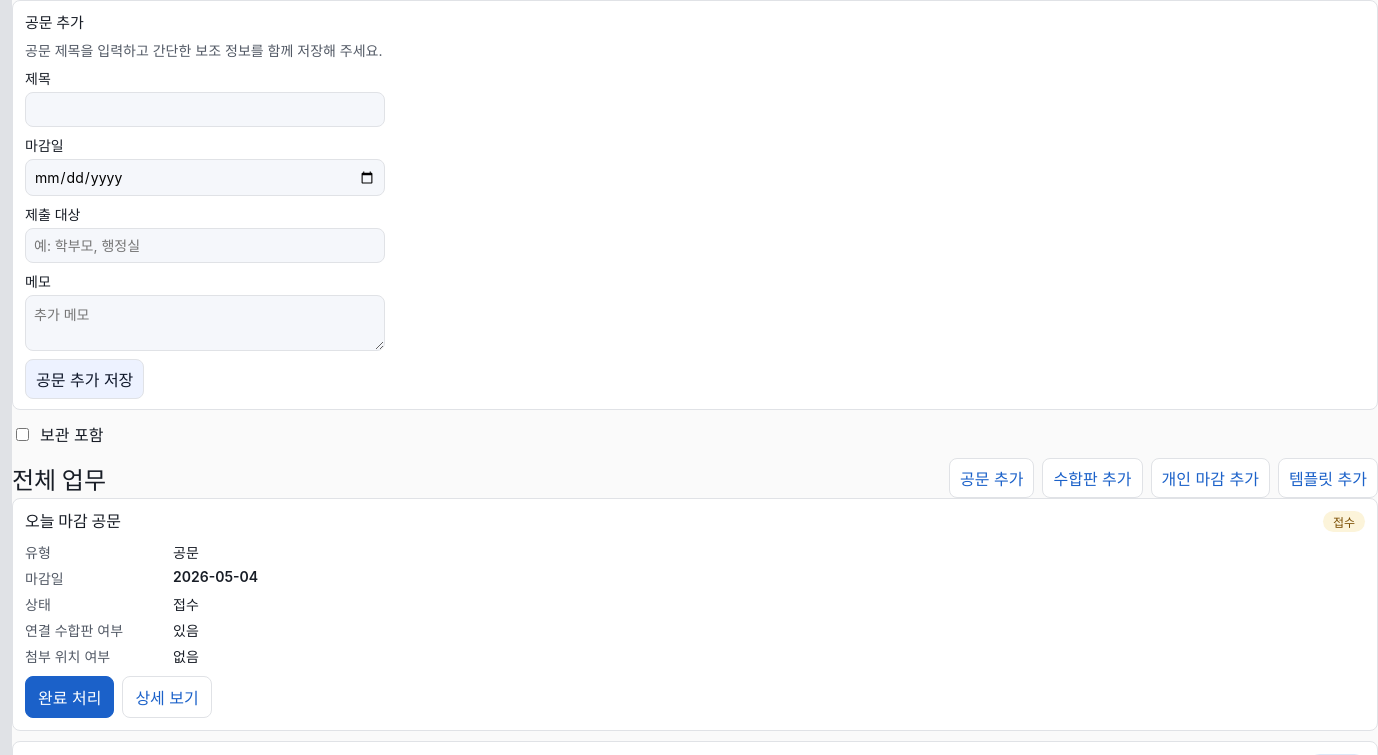
Scenario: TaskListPage create intent form › creates official document and appends it to the visible list from fallback data
The width and height of the screenshot is (1378, 755).
Type "5월 공문 제출 확인" into the field labelled "제목" at (205,110), box [25, 92, 385, 127]
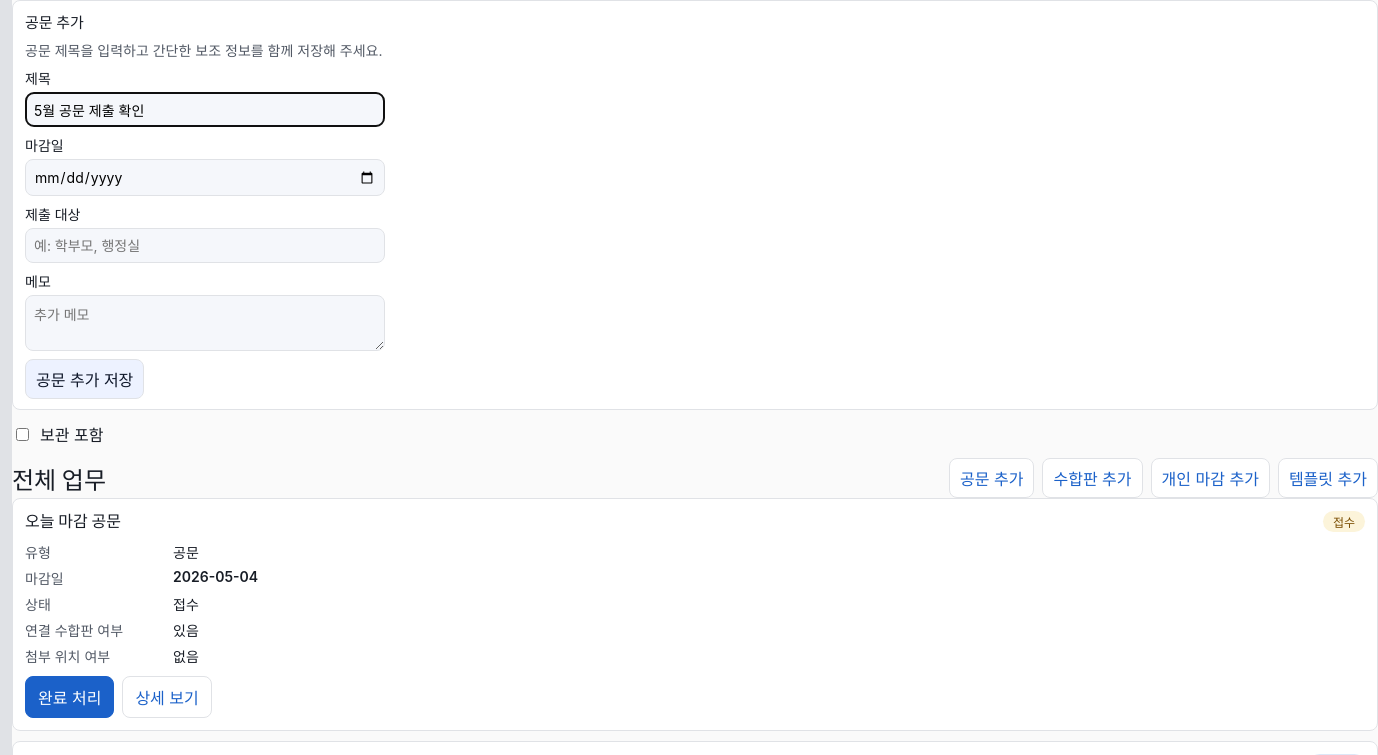
Type "2026-05-15" into the date field labelled "마감일" at (205,178), box [25, 159, 385, 196]
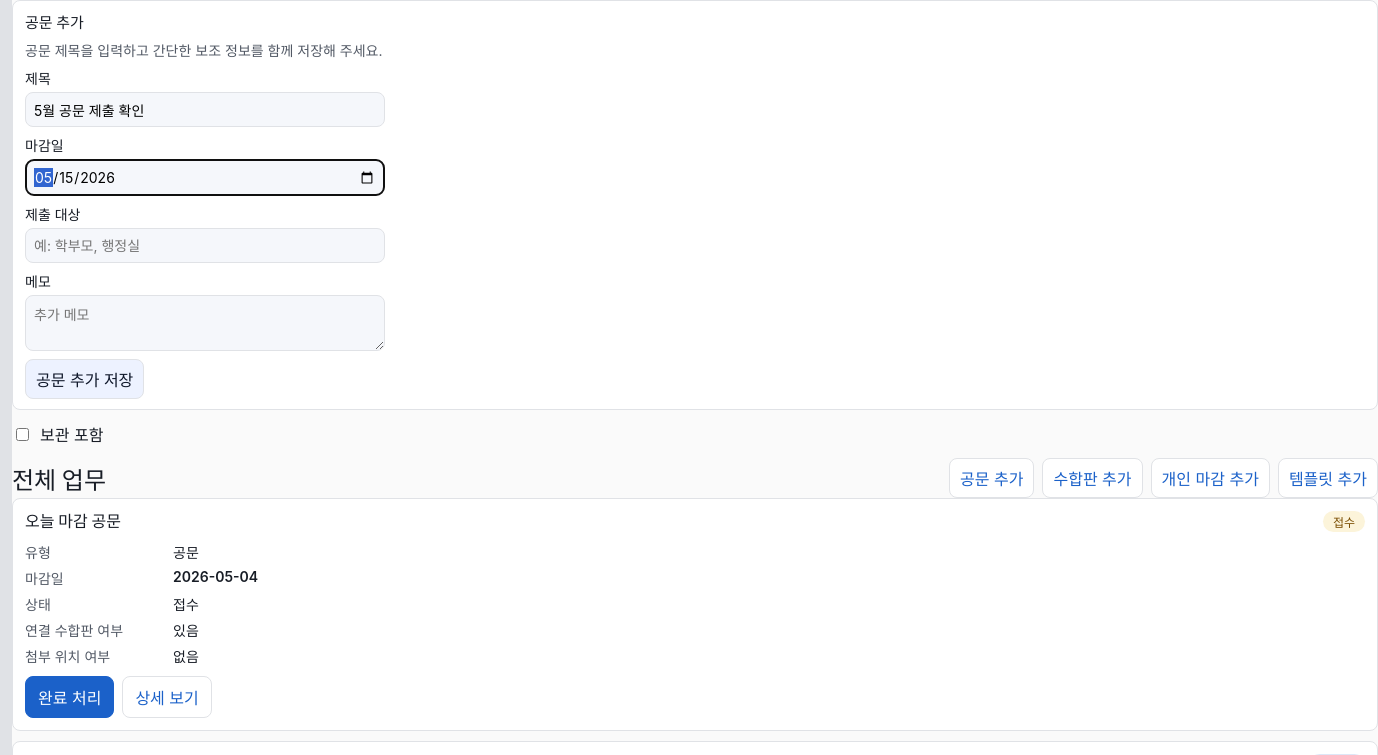
Type "행정실" into the field labelled "제출 대상" at (205,246), box [25, 228, 385, 263]
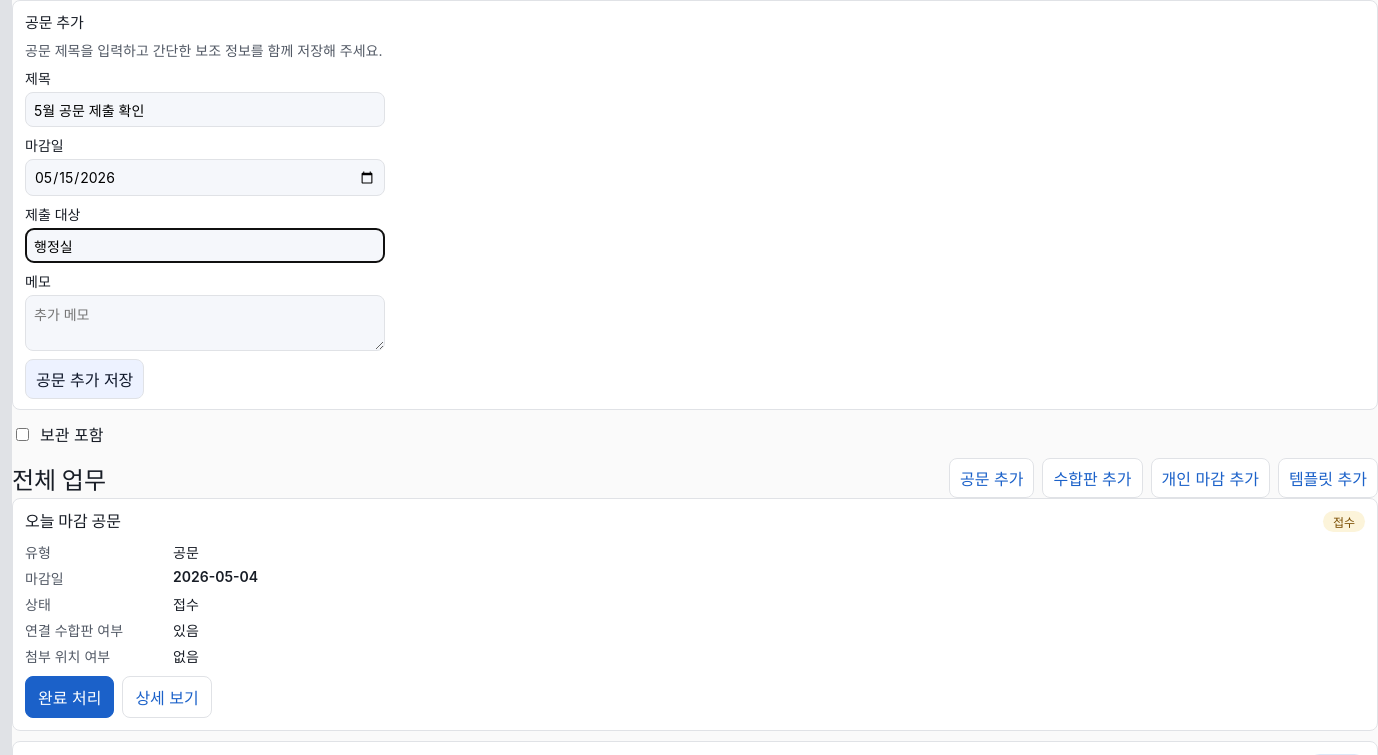
Type "부모 알림" into the text box labelled "메모" at (205,323), box [25, 295, 385, 351]
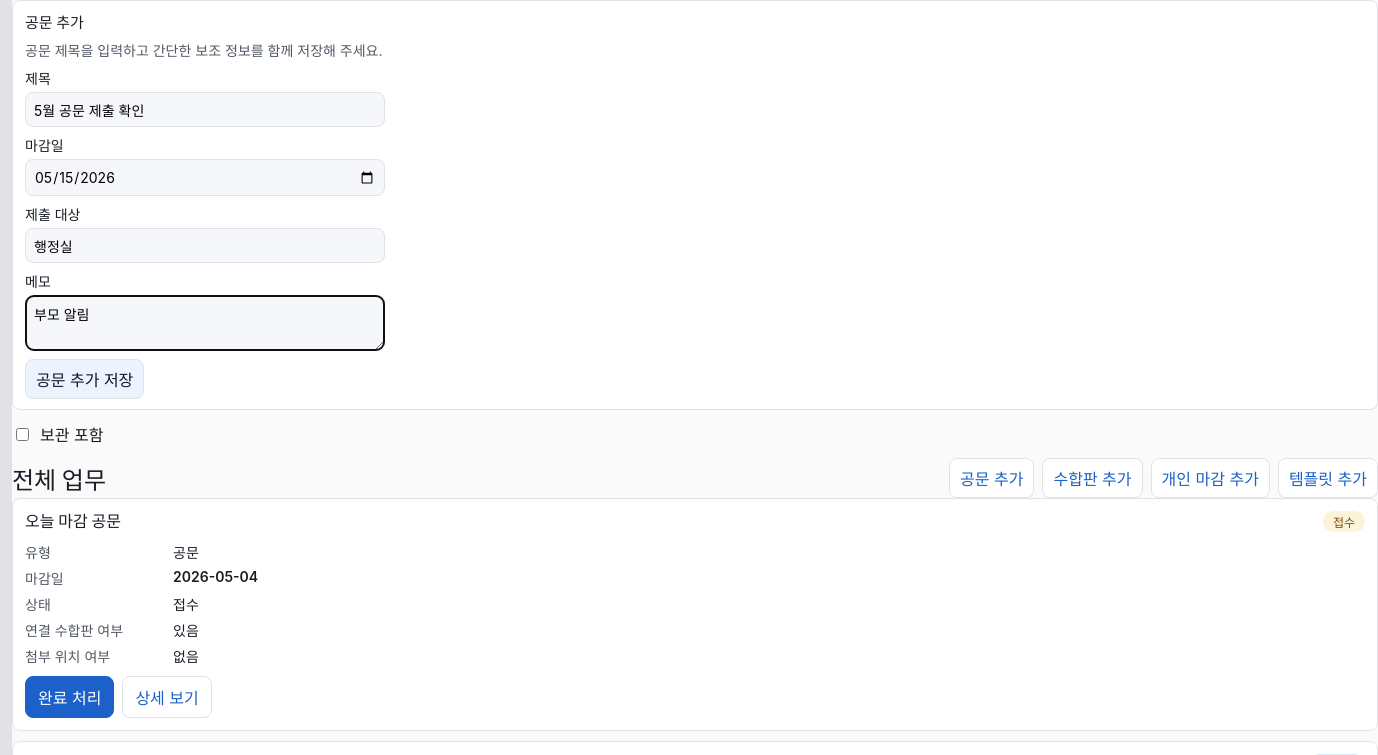
Click the button "공문 추가 저장" at (85,379), box [25, 359, 144, 399]
(page scrolled)
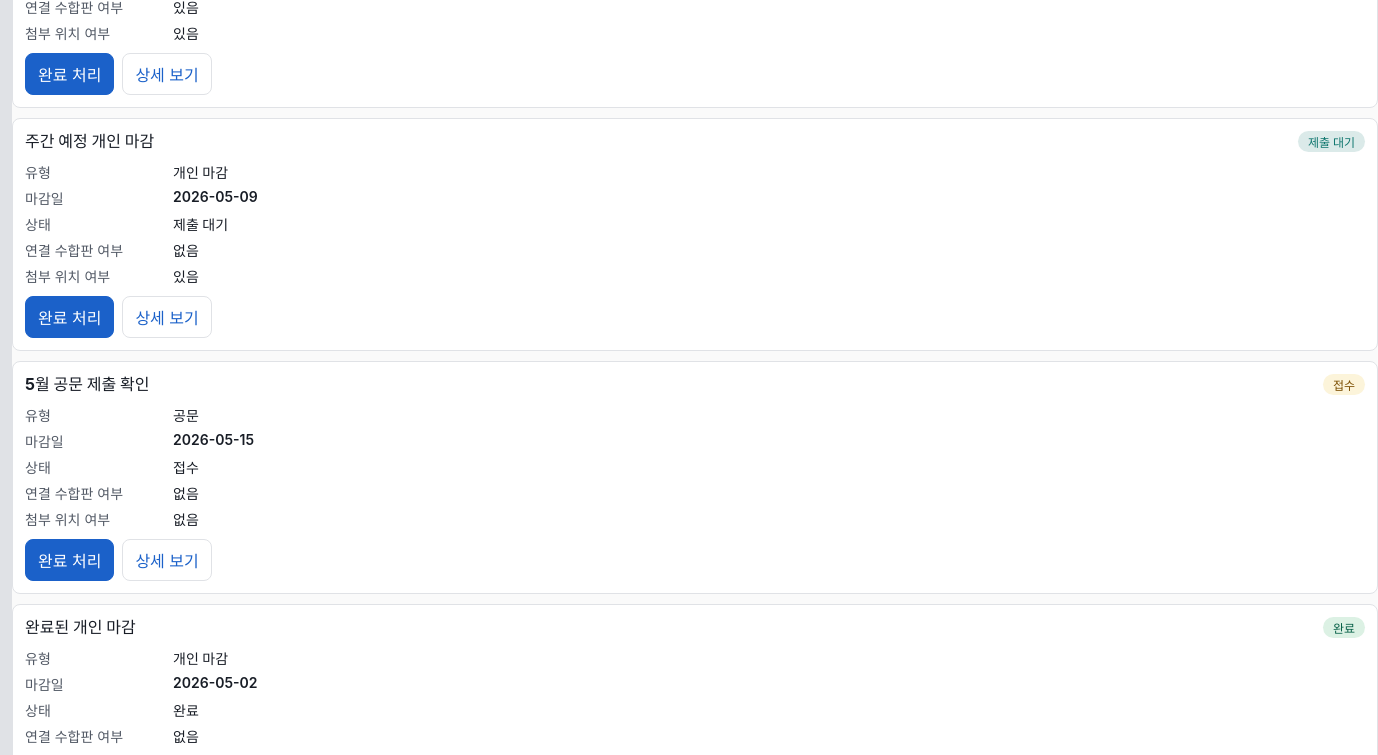
Expected: the heading "공문 추가" is not shown
Expected: the heading "5월 공문 제출 확인" is shown, [25, 374, 149, 395]
